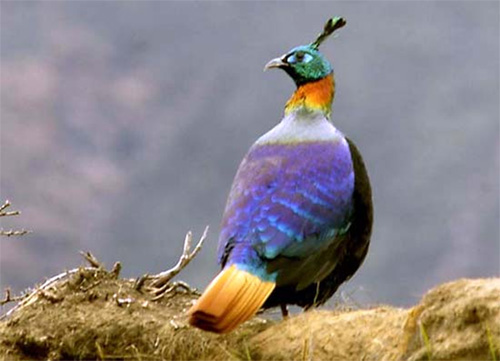bird: (182, 11, 393, 338)
